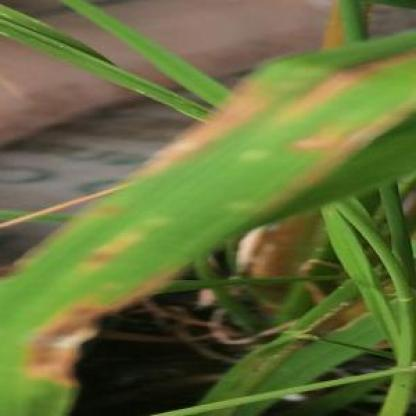Rice blast: (15, 282, 148, 416), (131, 80, 262, 176)
